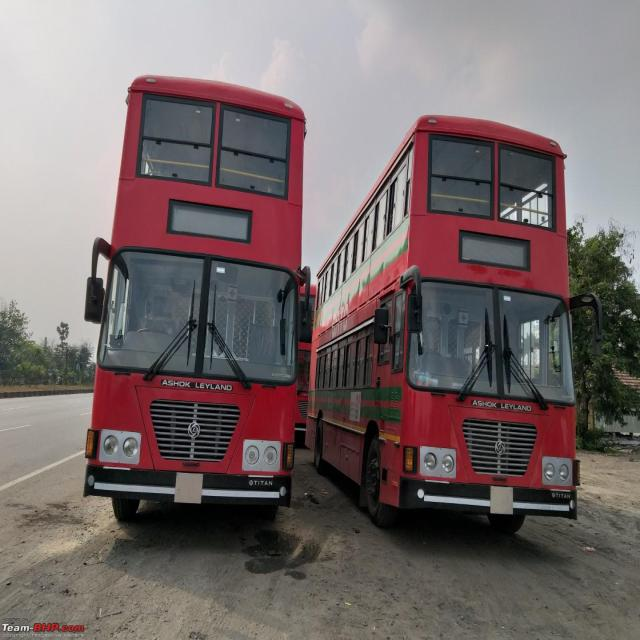Double decker: (301, 99, 602, 552), (77, 59, 315, 540)
